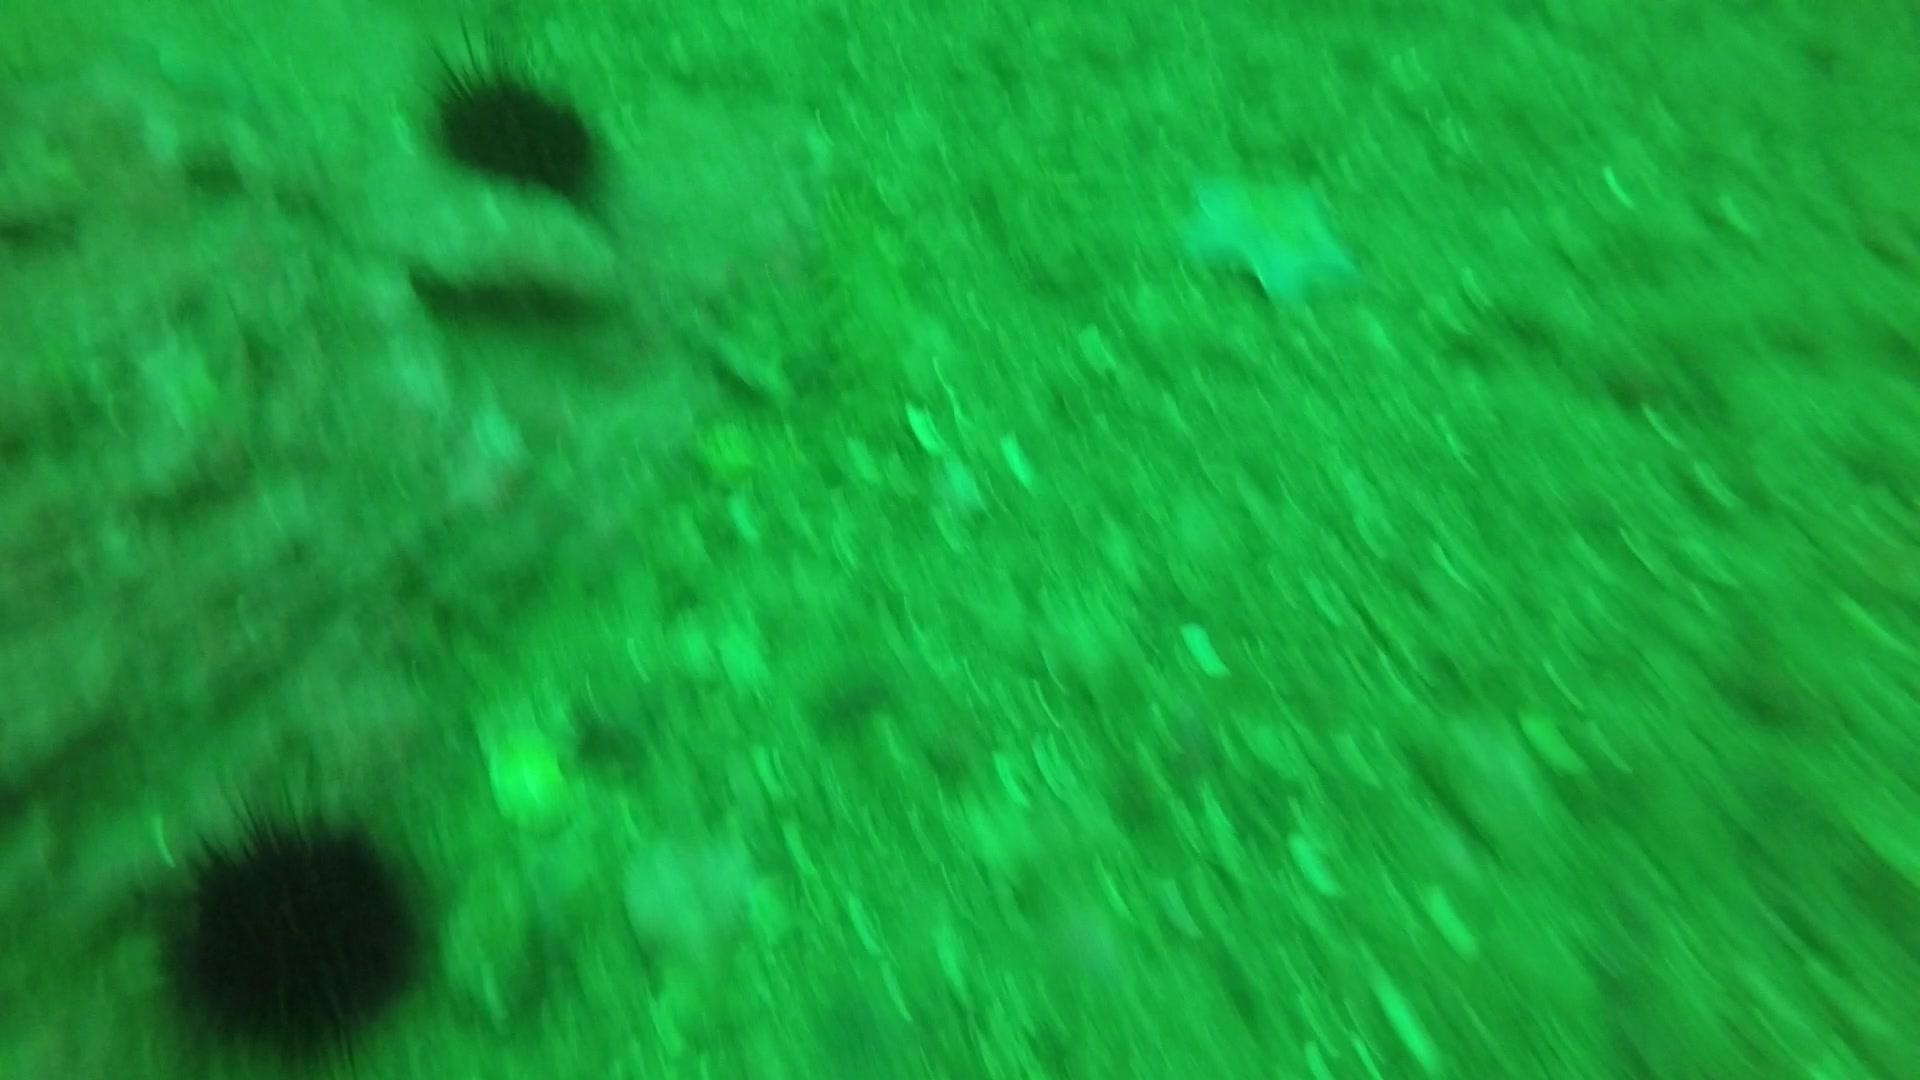echinus: (138, 789, 440, 1069), (415, 46, 618, 212)
starfish: (1168, 156, 1369, 320)
